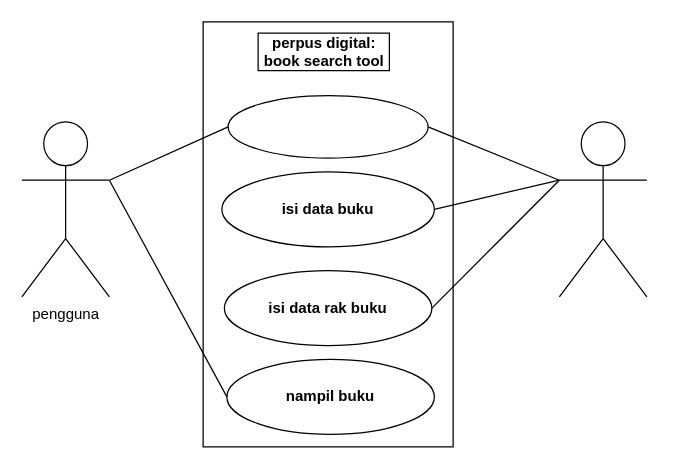
Some shapes in this 675 by 469 pixel diagram are drawn without their labels. Each missing label, with the centre of its shape:
"cari" goes at [327,126].
"perpustakawan" goes at [602,209].
